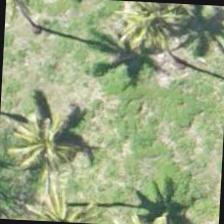Kelapa_Sawit: (15, 89, 110, 184)
